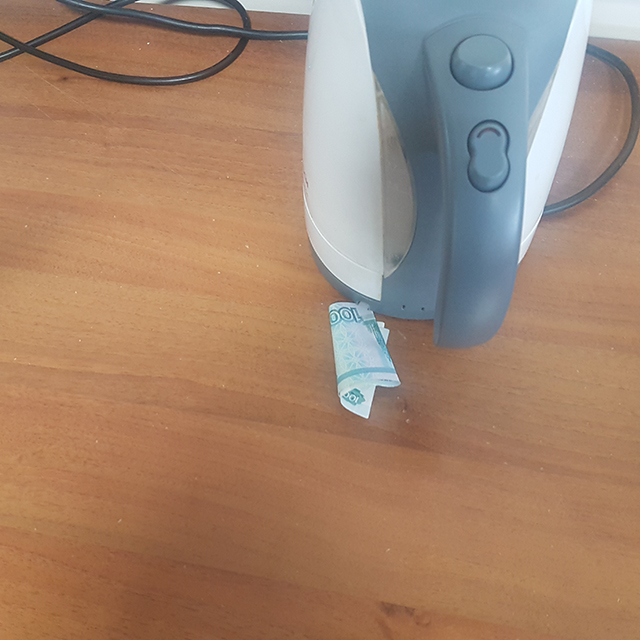banknotes: (326, 301, 402, 422)
